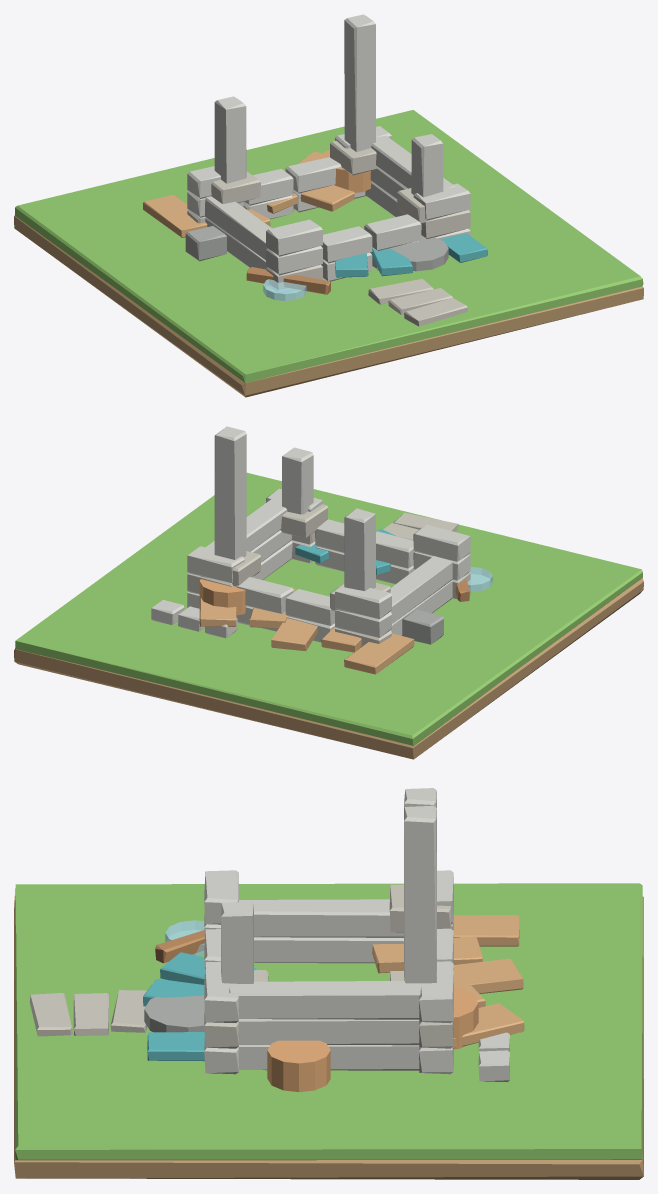
File: tower_l06_ruined_LOD1.glb
3 views of the same model, one above another, from view 1: azimuth 30°, elevation 25°; view 2: azimuth 150°, elevation 25°; view 3: azimuth 270°, elevation 25° (orthographic). The views are drawn at different scales.
Parts seen in each view (by area): view 1: tower_l06_grass_tile_tower_l06_ruined_LOD1_tmp, tower_l06_earth_tile_tower_l06_ruined_LOD1_tmp, snapped_upright_0.58_0.52_tower_l06_ruined_LOD1_tmp, snapped_upright_-0.58_0.52_tower_l06_ruined_LOD1_tmp, ruin_stone_return_1_-0.72_tower_l06_ruined_LOD1_tmp, snapped_upright_0.58_-0.52_tower_l06_ruined_LOD1_tmp, ruin_stone_course_2_-1_0_tower_l06_ruined_LOD1_tmp, ruin_stone_course_1_-1_2_tower_l06_ruined_LOD1_tmp, ruin_stone_return_2_0.72_tower_l06_ruined_LOD1_tmp, collapsed_deck_0_tower_l06_ruined_LOD1_tmp, ruin_stone_course_1_-1_1_tower_l06_ruined_LOD1_tmp, ruin_stone_course_1_1_2_tower_l06_ruined_LOD1_tmp (+24 smaller); view 2: tower_l06_grass_tile_tower_l06_ruined_LOD1_tmp, tower_l06_earth_tile_tower_l06_ruined_LOD1_tmp, snapped_upright_0.58_0.52_tower_l06_ruined_LOD1_tmp, snapped_upright_-0.58_0.52_tower_l06_ruined_LOD1_tmp, ruin_stone_return_1_-0.72_tower_l06_ruined_LOD1_tmp, snapped_upright_0.58_-0.52_tower_l06_ruined_LOD1_tmp, collapsed_deck_0_tower_l06_ruined_LOD1_tmp, ruin_stone_course_2_-1_0_tower_l06_ruined_LOD1_tmp, ruin_stone_course_2_1_0_tower_l06_ruined_LOD1_tmp, ruin_stone_return_2_0.72_tower_l06_ruined_LOD1_tmp, ruin_stone_course_1_1_1_tower_l06_ruined_LOD1_tmp, ruin_stone_course_1_1_2_tower_l06_ruined_LOD1_tmp (+20 smaller); view 3: tower_l06_grass_tile_tower_l06_ruined_LOD1_tmp, tower_l06_earth_tile_tower_l06_ruined_LOD1_tmp, ruin_stone_return_2_0.72_tower_l06_ruined_LOD1_tmp, snapped_upright_0.58_0.52_tower_l06_ruined_LOD1_tmp, ruin_stone_return_1_-0.72_tower_l06_ruined_LOD1_tmp, ruin_stone_return_1_0.72_tower_l06_ruined_LOD1_tmp, ruin_stone_return_0_-0.72_tower_l06_ruined_LOD1_tmp, ruin_stone_return_0_0.72_tower_l06_ruined_LOD1_tmp, fallen_bell_tower_l06_ruined_LOD1_tmp, snapped_upright_0.58_-0.52_tower_l06_ruined_LOD1_tmp, broken_beacon_crown_tower_l06_ruined_LOD1_tmp, collapsed_deck_0_tower_l06_ruined_LOD1_tmp (+25 smaller).
Part boxes in pixels (x1,y1,x2,y2): tower_l06_grass_tile_tower_l06_ruined_LOD1_tmp: [15, 110, 643, 383]; tower_l06_earth_tile_tower_l06_ruined_LOD1_tmp: [14, 215, 643, 397]; snapped_upright_0.58_0.52_tower_l06_ruined_LOD1_tmp: [344, 14, 375, 151]; snapped_upright_-0.58_0.52_tower_l06_ruined_LOD1_tmp: [214, 96, 246, 183]; ruin_stone_return_1_-0.72_tower_l06_ruined_LOD1_tmp: [205, 196, 271, 260]; snapped_upright_0.58_-0.52_tower_l06_ruined_LOD1_tmp: [411, 134, 443, 197]; ruin_stone_course_2_-1_0_tower_l06_ruined_LOD1_tmp: [266, 219, 322, 256]; ruin_stone_course_1_-1_2_tower_l06_ruined_LOD1_tmp: [364, 214, 421, 250]; ruin_stone_return_2_0.72_tower_l06_ruined_LOD1_tmp: [371, 135, 454, 188]; collapsed_deck_0_tower_l06_ruined_LOD1_tmp: [143, 194, 207, 237]; ruin_stone_course_1_-1_1_tower_l06_ruined_LOD1_tmp: [321, 226, 372, 263]; ruin_stone_course_1_1_2_tower_l06_ruined_LOD1_tmp: [285, 157, 341, 193]; tower_l06_grass_tile_tower_l06_ruined_LOD1_tmp: [15, 472, 642, 746]; tower_l06_earth_tile_tower_l06_ruined_LOD1_tmp: [14, 578, 643, 759]; snapped_upright_0.58_0.52_tower_l06_ruined_LOD1_tmp: [214, 426, 246, 559]; snapped_upright_-0.58_0.52_tower_l06_ruined_LOD1_tmp: [344, 508, 375, 591]; ruin_stone_return_1_-0.72_tower_l06_ruined_LOD1_tmp: [390, 556, 452, 623]; snapped_upright_0.58_-0.52_tower_l06_ruined_LOD1_tmp: [282, 447, 313, 514]; collapsed_deck_0_tower_l06_ruined_LOD1_tmp: [344, 633, 414, 674]; ruin_stone_course_2_-1_0_tower_l06_ruined_LOD1_tmp: [413, 524, 470, 561]; ruin_stone_course_2_1_0_tower_l06_ruined_LOD1_tmp: [335, 585, 391, 619]; ruin_stone_return_2_0.72_tower_l06_ruined_LOD1_tmp: [205, 496, 287, 551]; ruin_stone_course_1_1_1_tower_l06_ruined_LOD1_tmp: [285, 589, 334, 625]; ruin_stone_course_1_1_2_tower_l06_ruined_LOD1_tmp: [236, 577, 293, 613]; tower_l06_grass_tile_tower_l06_ruined_LOD1_tmp: [15, 883, 642, 1160]; tower_l06_earth_tile_tower_l06_ruined_LOD1_tmp: [14, 896, 643, 1179]; ruin_stone_return_2_0.72_tower_l06_ruined_LOD1_tmp: [229, 981, 427, 1019]; snapped_upright_0.58_0.52_tower_l06_ruined_LOD1_tmp: [404, 805, 436, 983]; ruin_stone_return_1_-0.72_tower_l06_ruined_LOD1_tmp: [239, 899, 403, 937]; ruin_stone_return_1_0.72_tower_l06_ruined_LOD1_tmp: [238, 1019, 419, 1045]; ruin_stone_return_0_-0.72_tower_l06_ruined_LOD1_tmp: [254, 937, 403, 963]; ruin_stone_return_0_0.72_tower_l06_ruined_LOD1_tmp: [238, 1044, 419, 1070]; fallen_bell_tower_l06_ruined_LOD1_tmp: [267, 1040, 330, 1092]; snapped_upright_0.58_-0.52_tower_l06_ruined_LOD1_tmp: [221, 901, 253, 983]; broken_beacon_crown_tower_l06_ruined_LOD1_tmp: [144, 995, 204, 1032]; collapsed_deck_0_tower_l06_ruined_LOD1_tmp: [453, 915, 519, 946].
Bounding box in the file's own units: 3.6 × 1.76 × 3.58.
